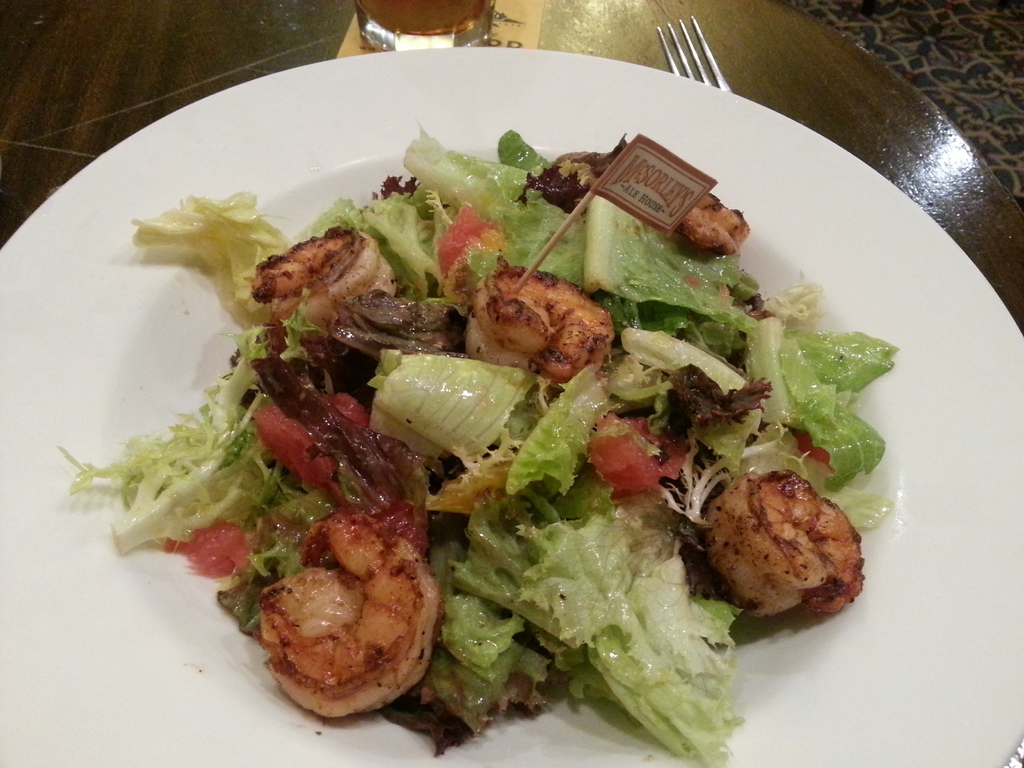salad: (45, 110, 911, 766)
